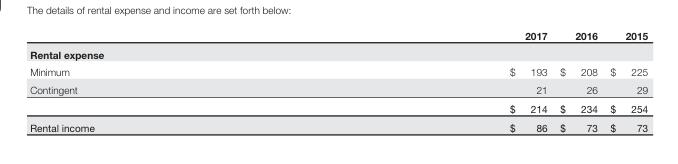table: (29, 28, 647, 132)
table column: (29, 28, 301, 132), (301, 28, 552, 132), (552, 28, 603, 132), (603, 28, 647, 132)
table column header: (29, 28, 647, 44)
table projected row header: (29, 44, 647, 62)
table row: (29, 98, 647, 117), (29, 44, 647, 62), (29, 62, 647, 80), (29, 80, 647, 98), (29, 28, 647, 44), (29, 117, 647, 132)
